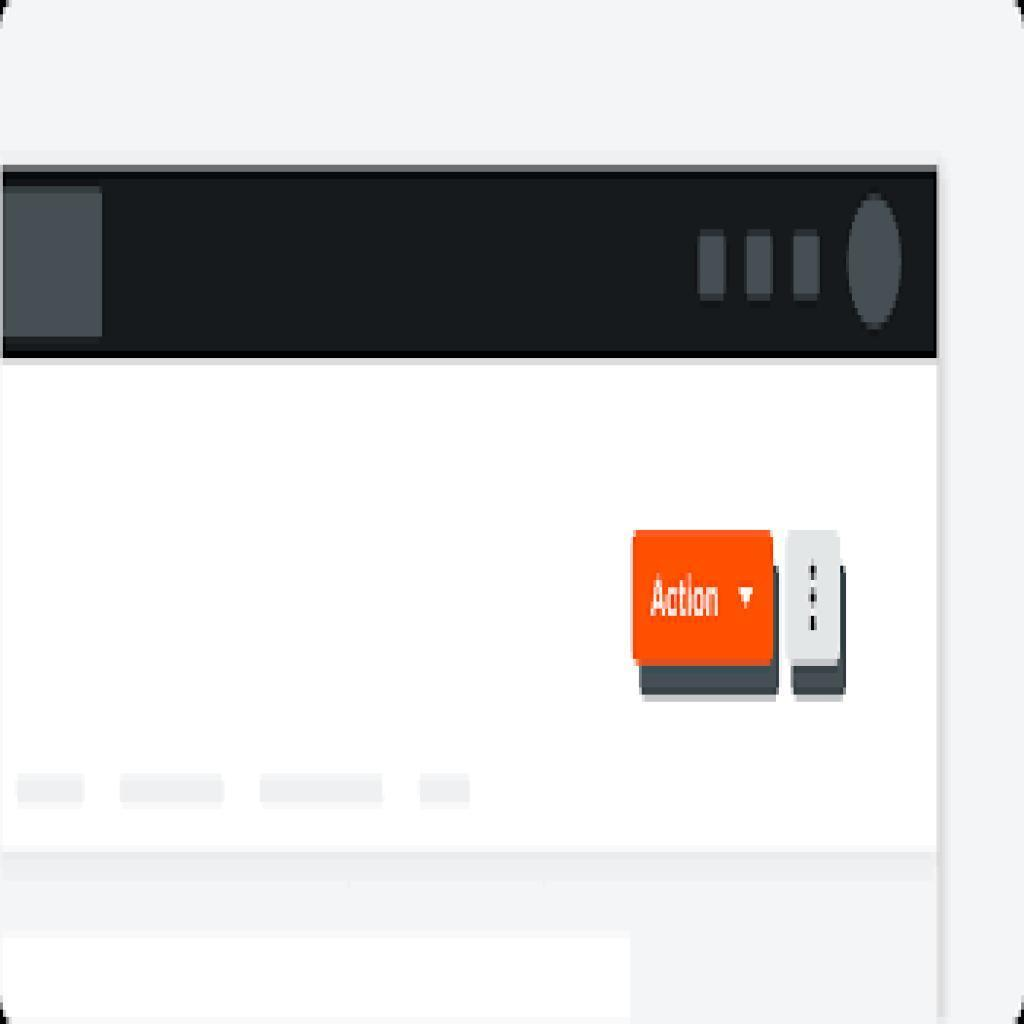dropdown: (632, 531, 776, 668)
icon: (800, 554, 828, 640)
